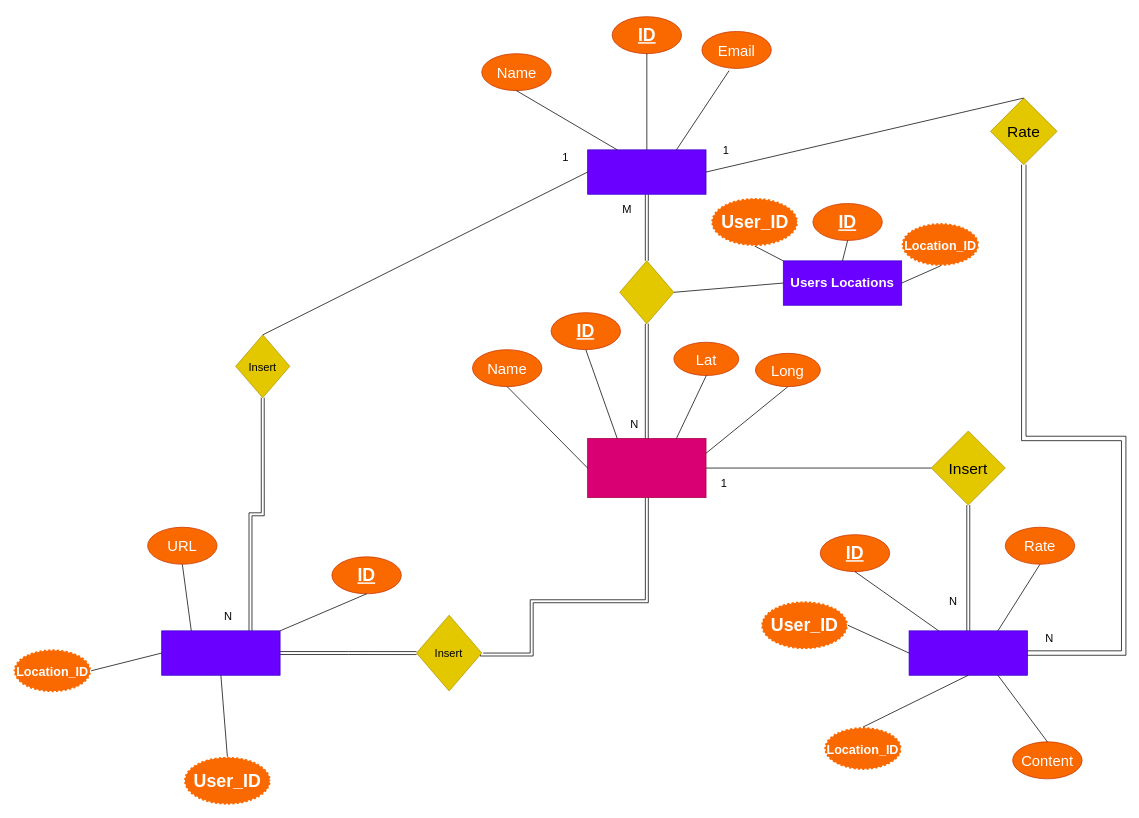
Image size: 1139x818. Some labels were removed from this diagram. Here are the shapes that lost their labels. From the top down, the centre of each, then its label:
pixel 646 171: Users
pixel 646 292: Search
pixel 646 468: Locations
pixel 220 652: Images
pixel 967 652: Reviews
